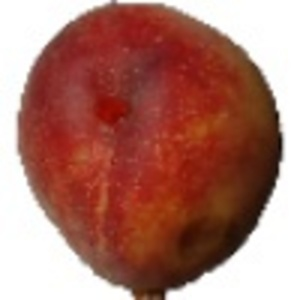pêssego: (15, 1, 285, 300)
